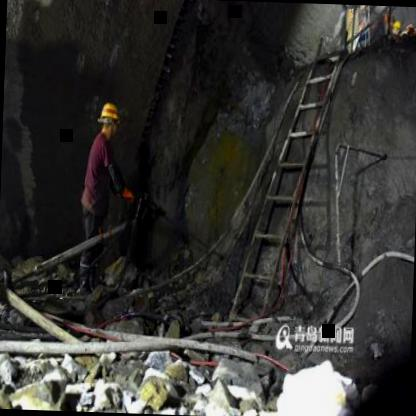helmet: (98, 98, 121, 141)
